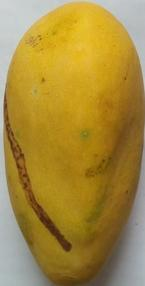Ripe: (1, 0, 145, 286)
